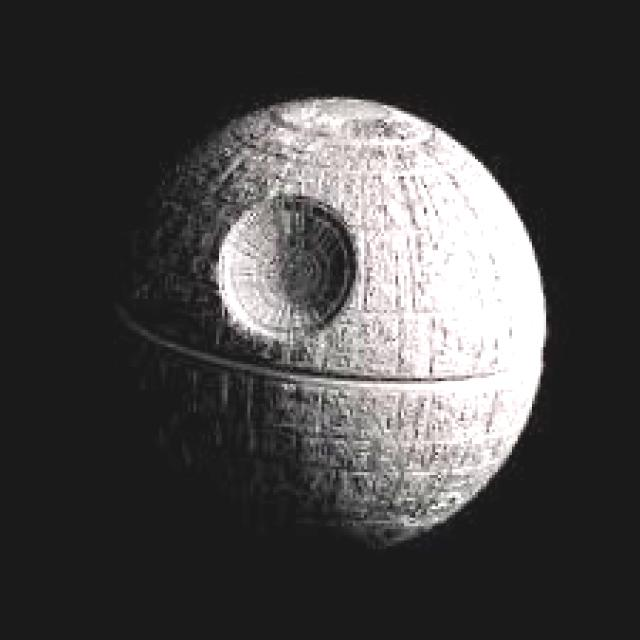deathstar: (106, 95, 549, 558)
